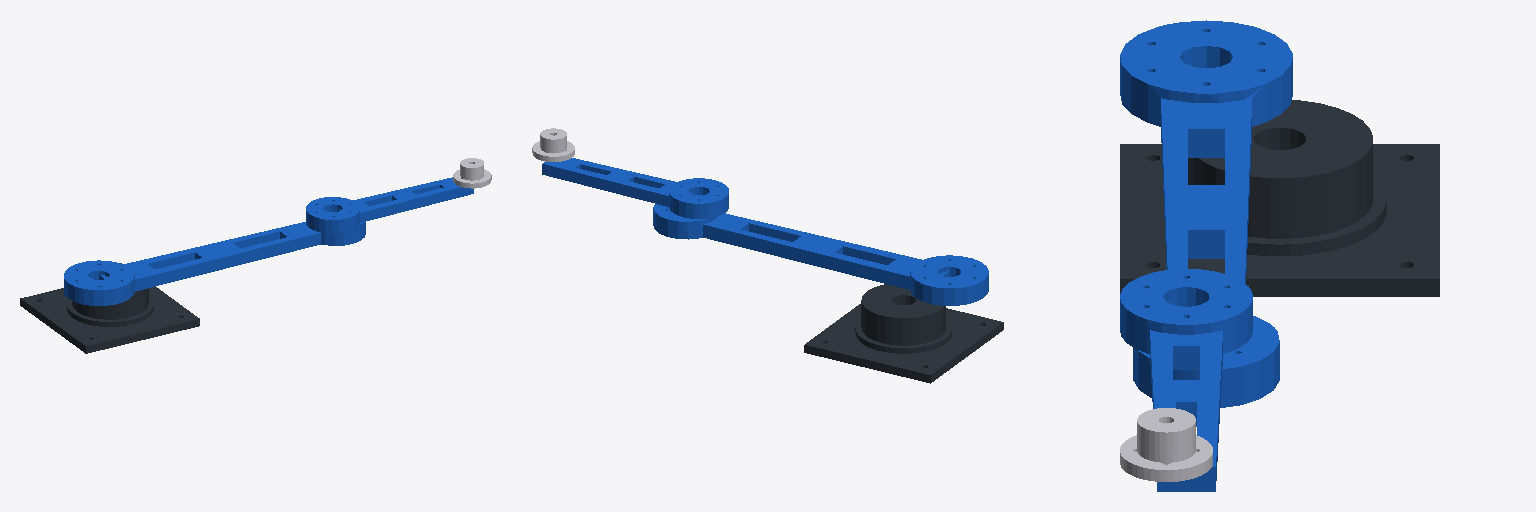
URDF robot description (twoplanar_arm):
<?xml version="1.0" encoding="utf-8"?>
<!-- =================================================================================== -->
<!-- |    Two-link planar inspection arm and forward kinematics                         | -->
<!-- |    Kinematic specification: L1 = 0.500 m, L2 = 0.300 m                            | -->
<!-- |    Revolute joints rotate about Z-axis with limits +/- pi                         | -->
<!-- |    Tool link is rigidly fixed to link2 (type="fixed")                             | -->
<!-- =================================================================================== -->
<robot name="twoplanar_arm">

  <!-- ======================== BASE LINK ======================== -->
  <link name="base_link">
    <inertial>
      <origin xyz="0.0 0.0 0.0262" rpy="0 0 0" />
      <mass value="1.7348" />
      <inertia
        ixx="0.007405" ixy="0.0" ixz="0.0"
        iyy="0.007405" iyz="0.0"
        izz="0.010702" />
    </inertial>
    <visual>
      <origin xyz="0 0 0" rpy="0 0 0" />
      <geometry>
        <mesh filename="package://twoplanar_arm/meshes/base_link.STL" />
      </geometry>
      <material name="dark_slate_gray">
        <color rgba="0.22 0.25 0.28 1.0" />
      </material>
    </visual>
    <collision>
      <origin xyz="0 0 0" rpy="0 0 0" />
      <geometry>
        <mesh filename="package://twoplanar_arm/meshes/base_link.STL" />
      </geometry>
    </collision>
  </link>

  <!-- ======================== JOINT 1 (Shoulder) ======================== -->
  <!-- Revolute joint at base rotating about Z-axis (limits +/- pi) -->
  <joint name="joint1" type="revolute">
    <origin xyz="0.0 0.0 0.085" rpy="0 0 0" />
    <parent link="base_link" />
    <child link="link1" />
    <axis xyz="0 0 1" />
    <limit lower="-3.14159265" upper="3.14159265" effort="50.0" velocity="3.14159" />
    <dynamics damping="0.1" friction="0.05" />
  </joint>

  <!-- ======================== LINK 1 (Arm Reach L1 = 0.500 m) ======================== -->
  <link name="link1">
    <inertial>
      <origin xyz="0.2222 0.0 0.0143" rpy="0 0 0" />
      <mass value="1.0908" />
      <inertia
        ixx="0.001146" ixy="0.0" ixz="0.0"
        iyy="0.100539" iyz="0.0"
        izz="0.101075" />
    </inertial>
    <visual>
      <origin xyz="0 0 0" rpy="0 0 0" />
      <geometry>
        <mesh filename="package://twoplanar_arm/meshes/link1.STL" />
      </geometry>
      <material name="industrial_blue">
        <color rgba="0.15 0.45 0.85 1.0" />
      </material>
    </visual>
    <collision>
      <origin xyz="0 0 0" rpy="0 0 0" />
      <geometry>
        <mesh filename="package://twoplanar_arm/meshes/link1.STL" />
      </geometry>
    </collision>
  </link>

  <!-- ======================== JOINT 2 (Elbow) ======================== -->
  <!-- Revolute joint at x = L1 = 0.500 m on link1 rotating about Z-axis -->
  <joint name="joint2" type="revolute">
    <origin xyz="0.500 0.0 0.032" rpy="0 0 0" />
    <parent link="link1" />
    <child link="link2" />
    <axis xyz="0 0 1" />
    <limit lower="-3.14159265" upper="3.14159265" effort="30.0" velocity="3.14159" />
    <dynamics damping="0.08" friction="0.03" />
  </joint>

  <!-- ======================== LINK 2 (Forearm Reach L2 = 0.300 m) ======================== -->
  <link name="link2">
    <inertial>
      <origin xyz="0.0832 0.0 0.0120" rpy="0 0 0" />
      <mass value="0.3811" />
      <inertia
        ixx="0.000255" ixy="0.0" ixz="0.0"
        iyy="0.006427" iyz="0.0"
        izz="0.006533" />
    </inertial>
    <visual>
      <origin xyz="0 0 0" rpy="0 0 0" />
      <geometry>
        <mesh filename="package://twoplanar_arm/meshes/link2.STL" />
      </geometry>
      <material name="industrial_blue">
        <color rgba="0.15 0.45 0.85 1.0" />
      </material>
    </visual>
    <collision>
      <origin xyz="0 0 0" rpy="0 0 0" />
      <geometry>
        <mesh filename="package://twoplanar_arm/meshes/link2.STL" />
      </geometry>
    </collision>
  </link>

  <!-- ======================== JOINT 3 (Tool / End-Effector) ======================== -->
  <!-- Fixed tool at x = L2 = 0.300 m on link2 (Inspection probe rigidly fixed) -->
  <joint name="joint3" type="fixed">
    <origin xyz="0.300 0.0 0.024" rpy="0 0 0" />
    <parent link="link2" />
    <child link="tool_link" />
  </joint>

  <!-- ======================== TOOL LINK (Inspection Head) ======================== -->
  <link name="tool_link">
    <inertial>
      <origin xyz="0.0 0.0 0.0135" rpy="0 0 0" />
      <mass value="0.0732" />
      <inertia
        ixx="0.000037" ixy="0.0" ixz="0.0"
        iyy="0.000037" iyz="0.0"
        izz="0.000032" />
    </inertial>
    <visual>
      <origin xyz="0 0 0" rpy="0 0 0" />
      <geometry>
        <mesh filename="package://twoplanar_arm/meshes/tool_link.STL" />
      </geometry>
      <material name="satin_stainless">
        <color rgba="0.82 0.82 0.85 1.0" />
      </material>
    </visual>
    <collision>
      <origin xyz="0 0 0" rpy="0 0 0" />
      <geometry>
        <mesh filename="package://twoplanar_arm/meshes/tool_link.STL" />
      </geometry>
    </collision>
  </link>

</robot>

--- What the picture shows (computed from the rendered views, not written in the file) ---
The picture shows the robot from 3 angles, left to right: view 1: azimuth 30°, elevation 25°; view 2: azimuth 150°, elevation 25°; view 3: azimuth 270°, elevation 25°; orthographic projection.
Robot: twoplanar_arm — 4 links, 3 joints (2 revolute, 1 fixed); root link base_link; default pose: all joints at 0.
Visible links, largest first — view 1: link1, base_link, link2, tool_link; view 2: base_link, link1, link2, tool_link; view 3: base_link, link1, link2, tool_link.
Boxes of the visible links, left/top/right/bottom form: link1: left=64, top=222, right=365, bottom=305; base_link: left=20, top=263, right=199, bottom=353; link2: left=306, top=177, right=473, bottom=233; tool_link: left=453, top=158, right=491, bottom=188; base_link: left=804, top=284, right=1003, bottom=383; link1: left=653, top=204, right=988, bottom=305; link2: left=542, top=158, right=728, bottom=218; tool_link: left=532, top=128, right=574, bottom=161; base_link: left=1120, top=100, right=1439, bottom=296; link1: left=1120, top=20, right=1292, bottom=407; link2: left=1120, top=269, right=1252, bottom=491; tool_link: left=1120, top=408, right=1212, bottom=481.
Bounding box of the posed robot: 0.87 × 0.24 × 0.176 m (x, y, z).
Meshes: 4 distinct files referenced, 4 mesh visuals loaded (4 binary STL).
